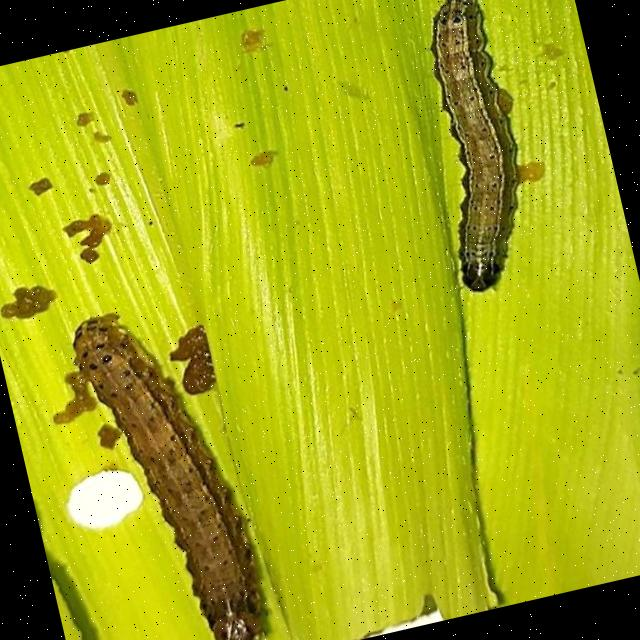worm: (44, 291, 281, 640), (394, 1, 551, 296)
